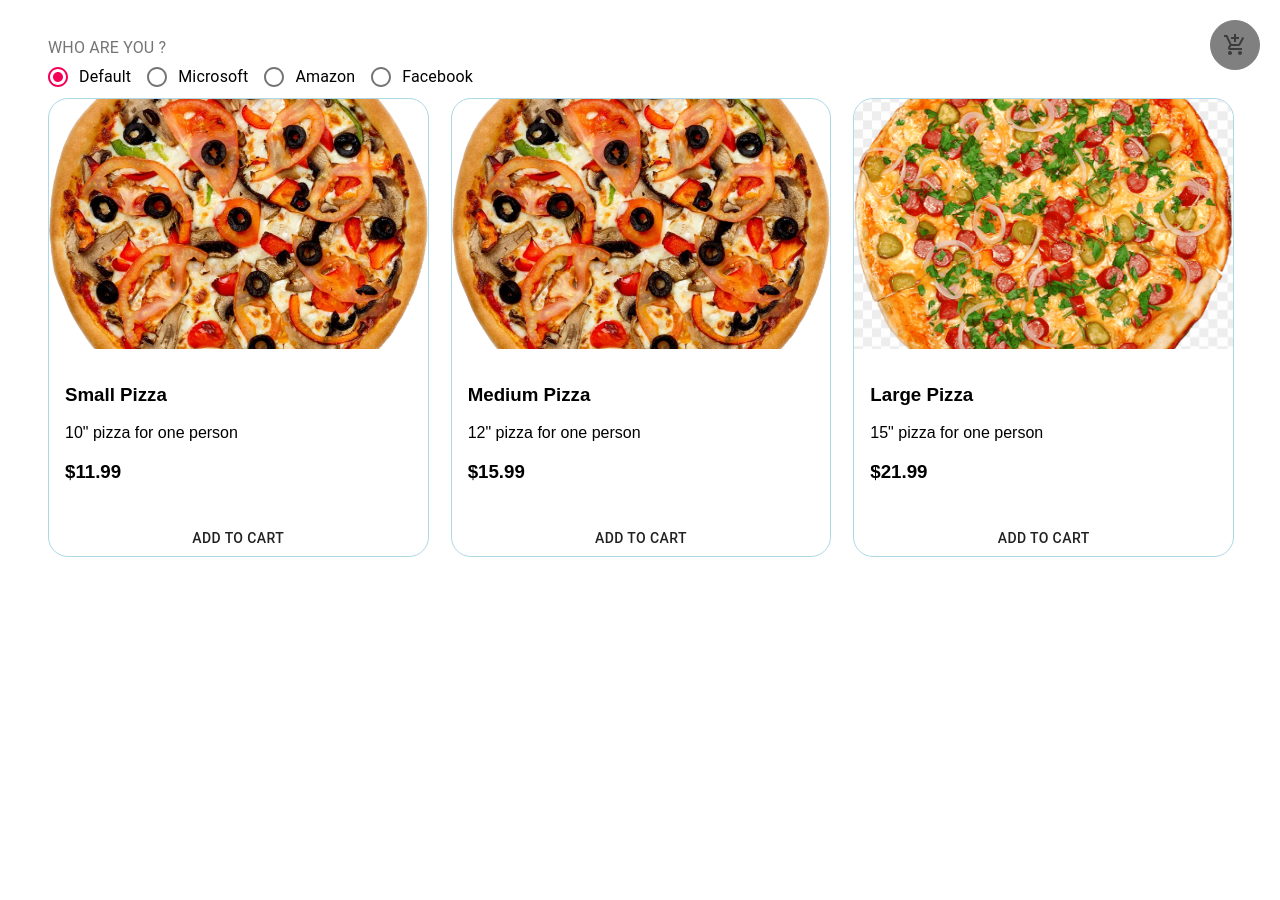
Test case : checkout process for amazon user › 1 large pizza
Step 1. Click the radio button with test id "USER_AMA" → (309, 77), box x1=262 y1=65 x2=355 y2=89
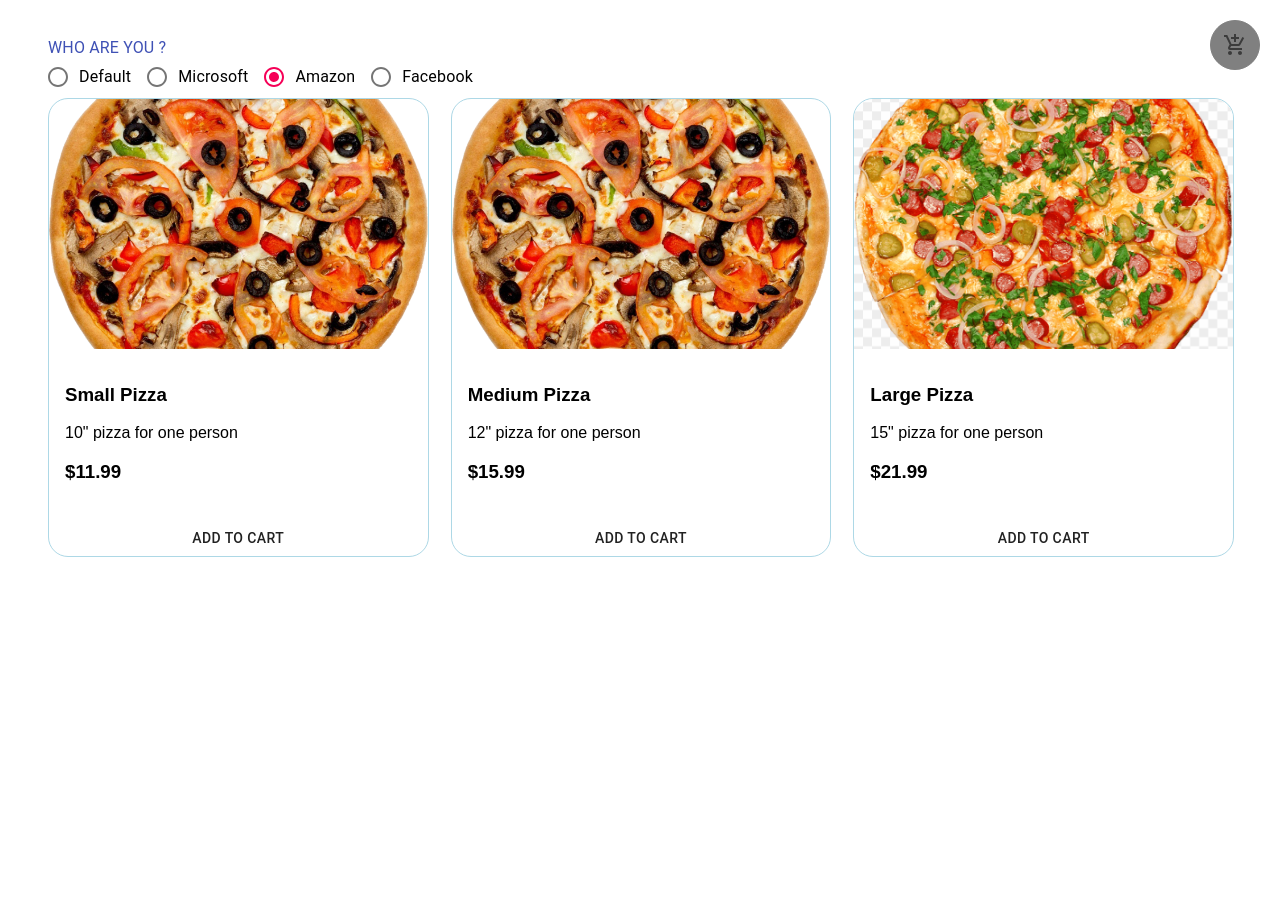
Step 2. Click the button with test id "3" → (1044, 539), box x1=854 y1=520 x2=1233 y2=557
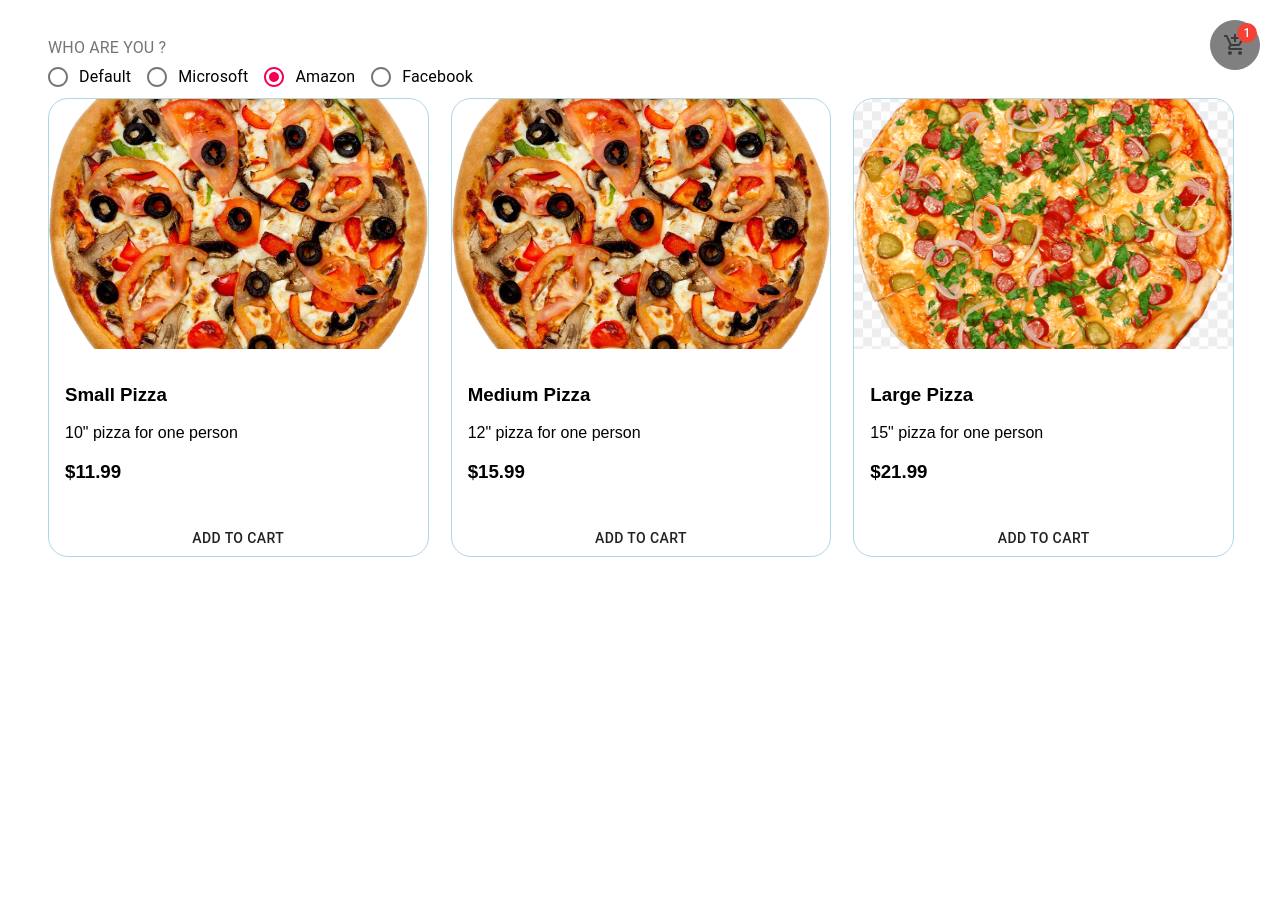
Step 3. Click the button with test id "button-drawer" → (1235, 45), box x1=1210 y1=20 x2=1260 y2=70
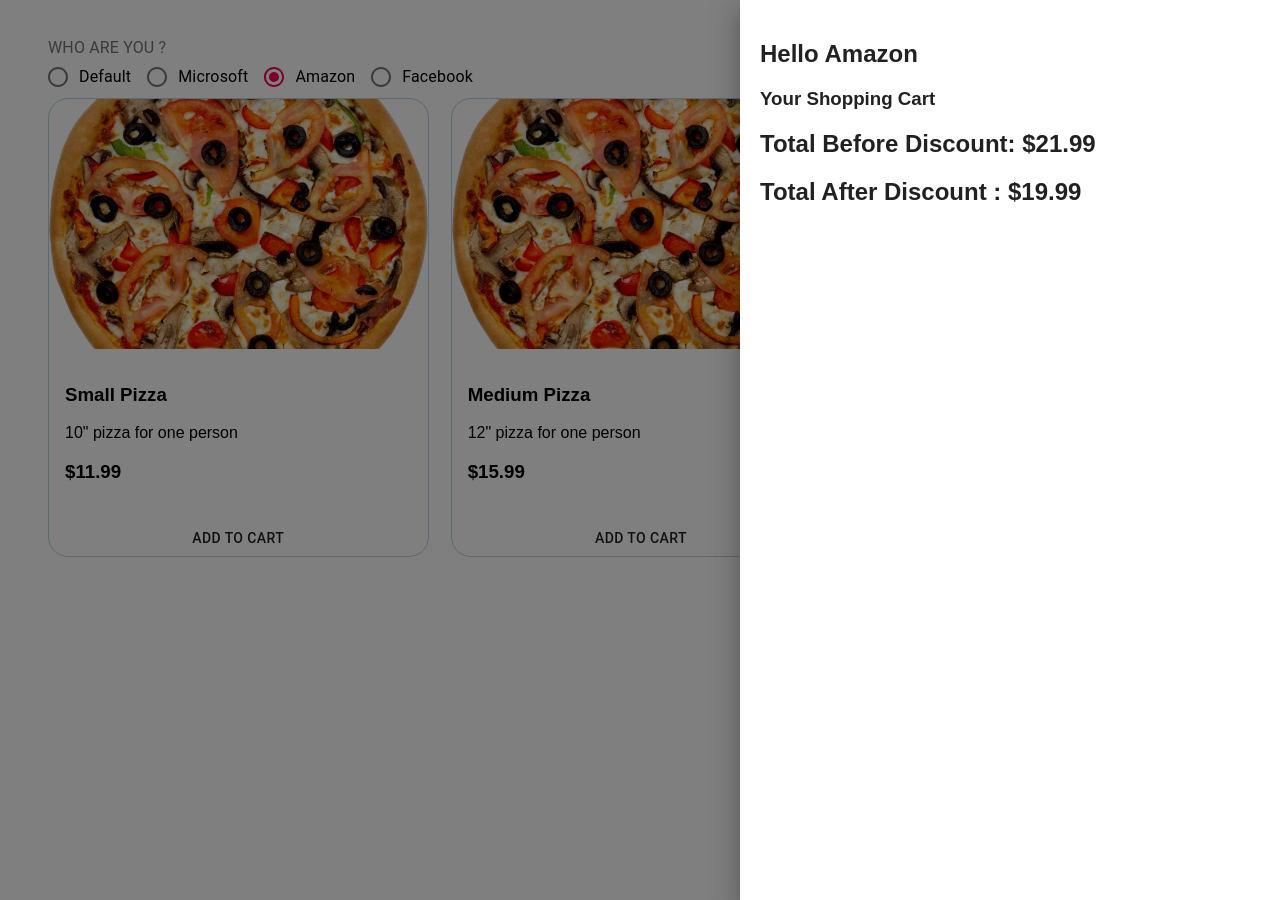
Expected: the text with test id "total-cost" reads "19.99", x1=1021 y1=178 x2=1081 y2=205
